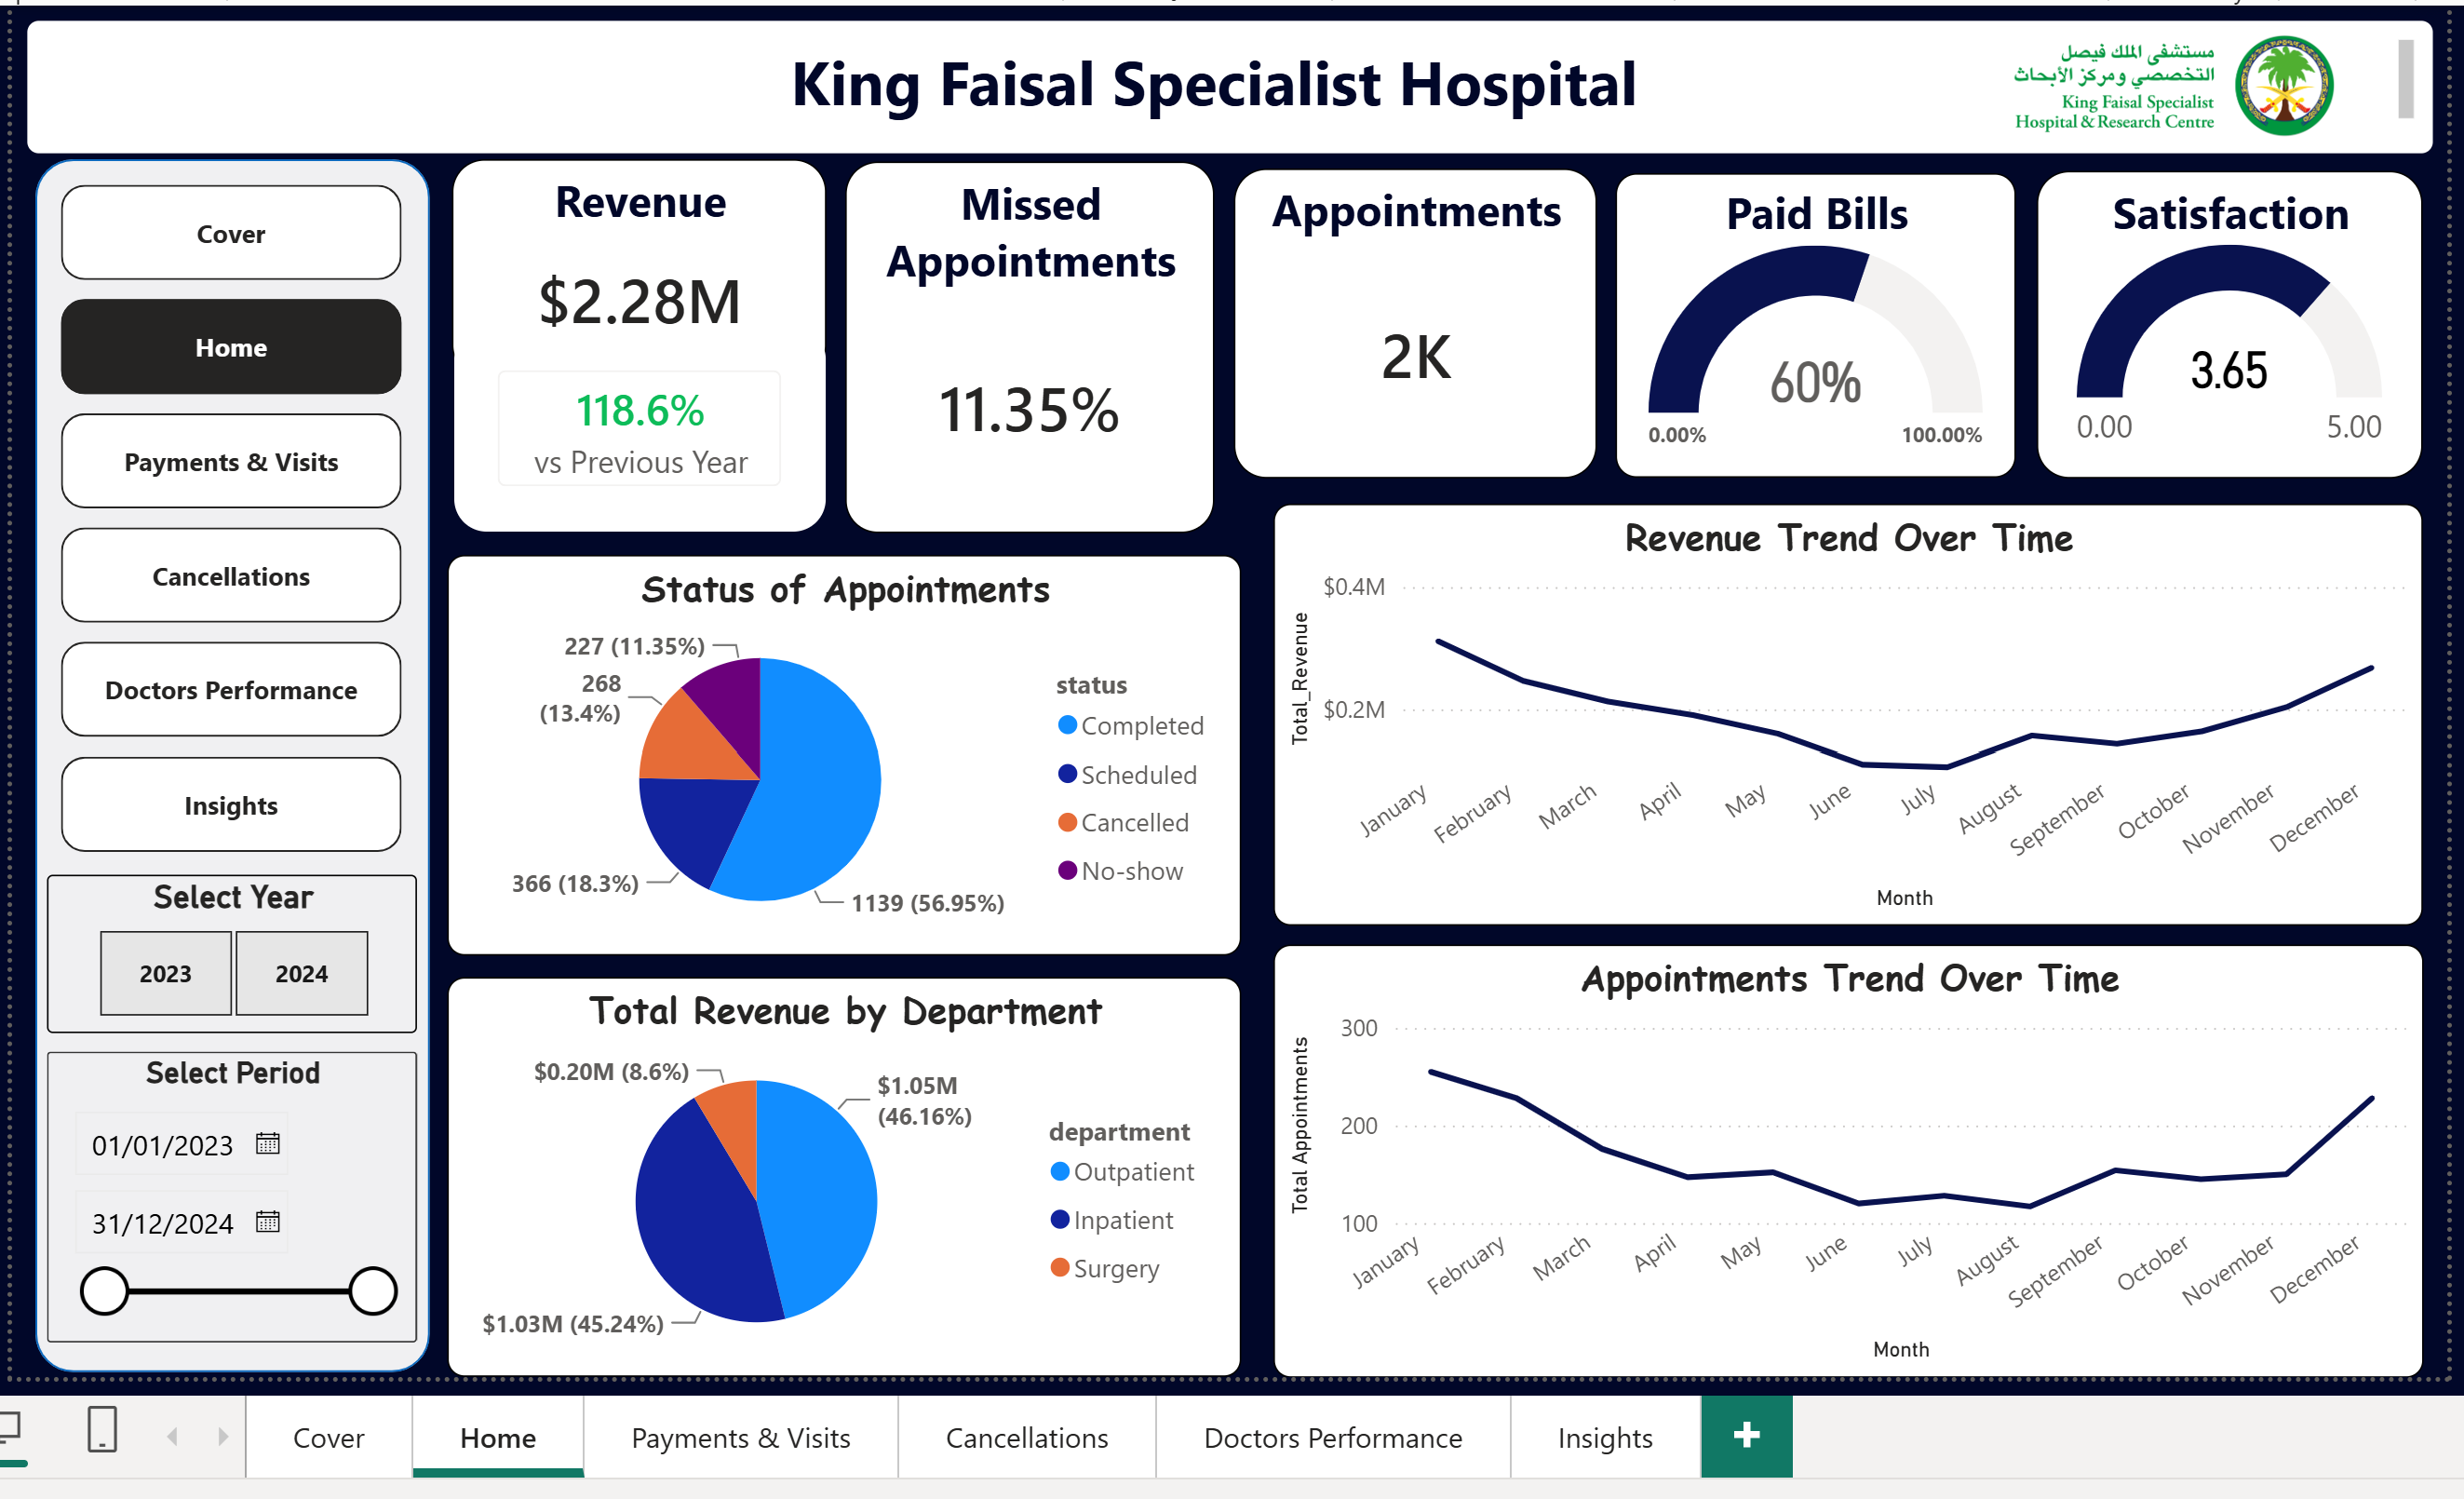

What the dashboard file says about the page in this screenshot:
{"tool":"powerbi","page":{"name":"Home","canvas":[1280,720],"ordinal":1},"visuals":[{"type":"textbox","box":[0,0,1280,85.7],"z":0},{"type":"cardVisual","title":"Total Revenue","fields":{"Data":["billing.Total_Revenue"]},"box":[118.6,85.7,197.1,161.4],"z":1000},{"type":"cardVisual","title":"Total Appointments","fields":{"Data":["appointments.Total Appointments"]},"box":[319.3,86.3,195.9,161.7],"z":2000},{"type":"cardVisual","title":"Missed Appointments ","fields":{"Data":["appointments.No-show-rate"]},"box":[519.3,83.6,209.6,168.5],"z":3000},{"type":"lineChart","title":"Appointments Trend Over Time","fields":{"Y":["appointments.Total Appointments"],"Category":["appointments.appointment_date.Variation.Date Hierarchy.Month"]},"box":[24.3,494.3,604.3,208.6],"z":4000},{"type":"slicer","title":"Select Period","fields":{"Values":["appointments.appointment_date"]},"box":[22,248.2,351,149.2],"z":5000},{"type":"lineChart","title":"Revenue Trend Over Time","fields":{"Category":["appointments.appointment_date.Variation.Date Hierarchy.Month"],"Y":["billing.Total_Revenue"]},"box":[641.4,494.3,625.7,208.6],"z":6000},{"type":"gauge","title":"Satisfaction","fields":{"Y":["appointments.Avg Patient Satisfaction"]},"box":[952.9,90,214.3,161.4],"z":7000},{"type":"gauge","title":"Paid Bills","fields":{"Y":["billing.Paid Bills"]},"box":[731.7,87.7,217.9,164.4],"z":8000},{"type":"slicer","title":"Year","fields":{"Values":["appointments.appointment_date.Variation.Date Hierarchy.Year"]},"box":[24.5,396.2,348.5,86.8],"z":9000},{"type":"actionButton","title":"Next","box":[1168.6,152.9,110,57.1],"z":10000},{"type":"image","box":[1046.2,10,220,63.8],"z":11000},{"type":"actionButton","box":[2.9,152.9,110,57.1],"z":12000},{"type":"donutChart","title":"Status of payments","fields":{"Category":["billing.payment_status"],"Y":["billing.count of payments"]},"box":[821.7,255.6,451.2,221.3],"z":13000},{"type":"pieChart","title":"Status of Appointments","fields":{"Y":["appointments.Total Appointments"],"Category":["appointments.status"]},"box":[375.4,254.3,435.3,222.6],"z":14000}]}

Visuals, with their boxes on the page's 1280x720 design canvas (x1, y1, x2, y2). These are canvas units, not pixel positions in the 2464x1499 screenshot, which may show the page scaled, cropped or inside an application window:
textbox: 0,0,1280,86
"Total Revenue" cardVisual: 119,86,316,247
"Total Appointments" cardVisual: 319,86,515,248
"Missed Appointments " cardVisual: 519,84,729,252
"Appointments Trend Over Time" lineChart: 24,494,629,703
"Select Period" slicer: 22,248,373,397
"Revenue Trend Over Time" lineChart: 641,494,1267,703
"Satisfaction" gauge: 953,90,1167,251
"Paid Bills" gauge: 732,88,950,252
"Year" slicer: 24,396,373,483
"Next" actionButton: 1169,153,1279,210
image: 1046,10,1266,74
actionButton: 3,153,113,210
"Status of payments" donutChart: 822,256,1273,477
"Status of Appointments" pieChart: 375,254,811,477
